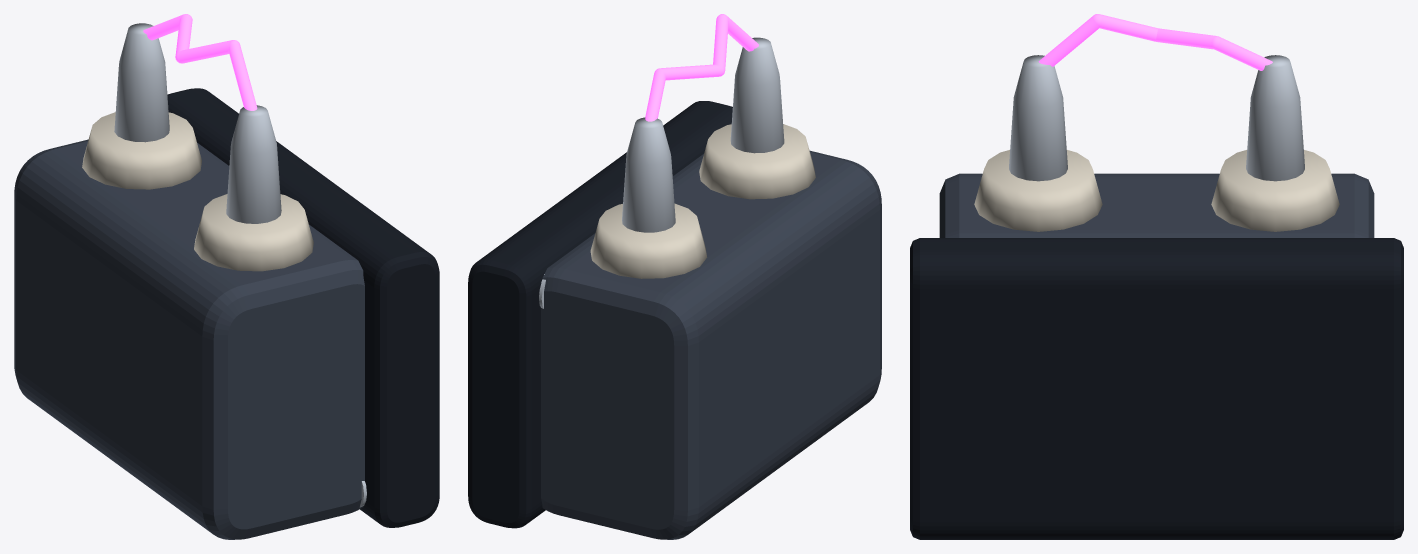
File: attach_voltcap.glb
3 renders of one model, left to right at view 1: azimuth 30°, elevation 25°; view 2: azimuth 150°, elevation 25°; view 3: azimuth 270°, elevation 25°, orthographic. The views are drawn at different scales.
Visible parts, largest first — view 1: attach_voltcap_body, attach_voltcap_plate, attach_voltcap_insulator0.012, attach_voltcap_insulator-0.012, attach_voltcap_electrode0.012, attach_voltcap_electrode-0.012, attach_voltcap_arc; view 2: attach_voltcap_body, attach_voltcap_plate, attach_voltcap_insulator-0.012, attach_voltcap_insulator0.012, attach_voltcap_electrode-0.012, attach_voltcap_electrode0.012, attach_voltcap_arc; view 3: attach_voltcap_plate, attach_voltcap_body, attach_voltcap_insulator-0.012, attach_voltcap_insulator0.012, attach_voltcap_electrode-0.012, attach_voltcap_electrode0.012, attach_voltcap_arc.
Boxes of the visible parts, left/top/right/bottom form: attach_voltcap_body: left=14, top=139, right=364, bottom=539; attach_voltcap_plate: left=167, top=88, right=439, bottom=527; attach_voltcap_insulator0.012: left=194, top=194, right=313, bottom=271; attach_voltcap_insulator-0.012: left=82, top=112, right=201, bottom=189; attach_voltcap_electrode0.012: left=226, top=105, right=281, bottom=223; attach_voltcap_electrode-0.012: left=114, top=23, right=169, bottom=142; attach_voltcap_arc: left=143, top=14, right=257, bottom=110; attach_voltcap_body: left=541, top=150, right=881, bottom=539; attach_voltcap_plate: left=468, top=101, right=732, bottom=528; attach_voltcap_insulator-0.012: left=590, top=203, right=707, bottom=278; attach_voltcap_insulator0.012: left=699, top=124, right=815, bottom=199; attach_voltcap_electrode-0.012: left=622, top=117, right=675, bottom=232; attach_voltcap_electrode0.012: left=730, top=37, right=784, bottom=153; attach_voltcap_arc: left=645, top=14, right=758, bottom=121; attach_voltcap_plate: left=910, top=238, right=1403, bottom=539; attach_voltcap_body: left=939, top=173, right=1374, bottom=237; attach_voltcap_insulator-0.012: left=1211, top=150, right=1339, bottom=231; attach_voltcap_insulator0.012: left=974, top=150, right=1102, bottom=231; attach_voltcap_electrode-0.012: left=1246, top=55, right=1304, bottom=181; attach_voltcap_electrode0.012: left=1009, top=55, right=1067, bottom=181; attach_voltcap_arc: left=1038, top=14, right=1272, bottom=70.
Size of the model in its own units: 0.027 by 0.0527 by 0.05.
